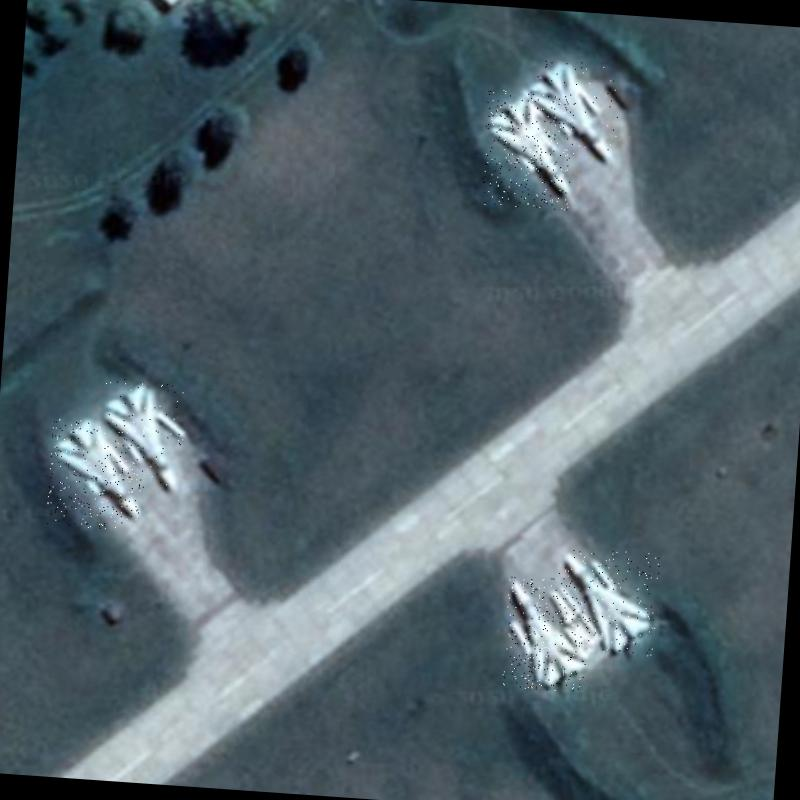A20: (553, 546, 660, 656), (480, 89, 576, 210), (45, 416, 144, 531), (501, 576, 591, 692), (99, 377, 186, 492), (528, 59, 620, 160)
